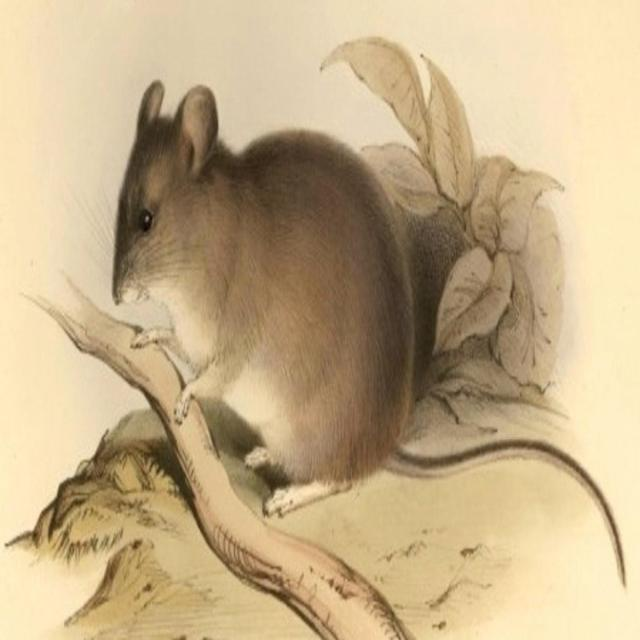Mouse: (103, 72, 626, 591)
